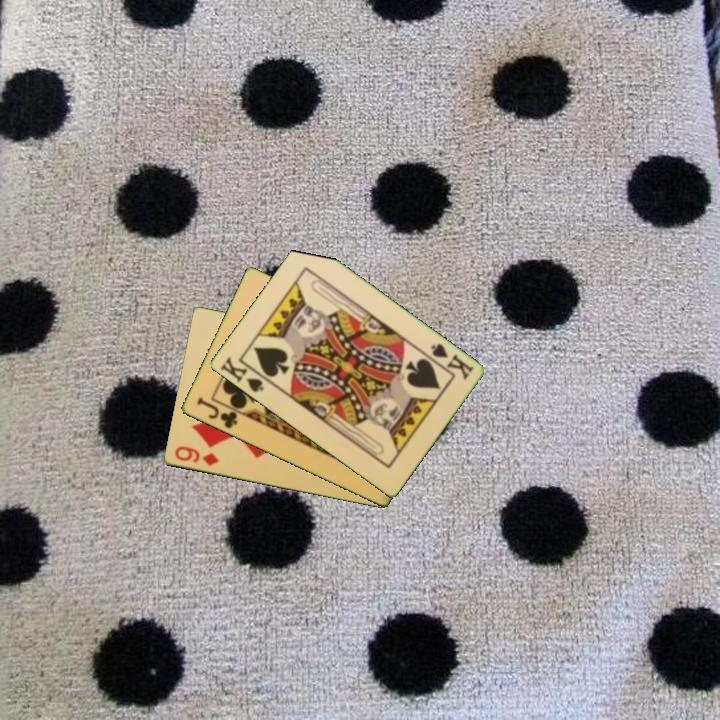9d: (171, 443, 222, 469)
Jc: (193, 393, 240, 432)
Ks: (427, 340, 476, 383), (216, 353, 266, 395)
